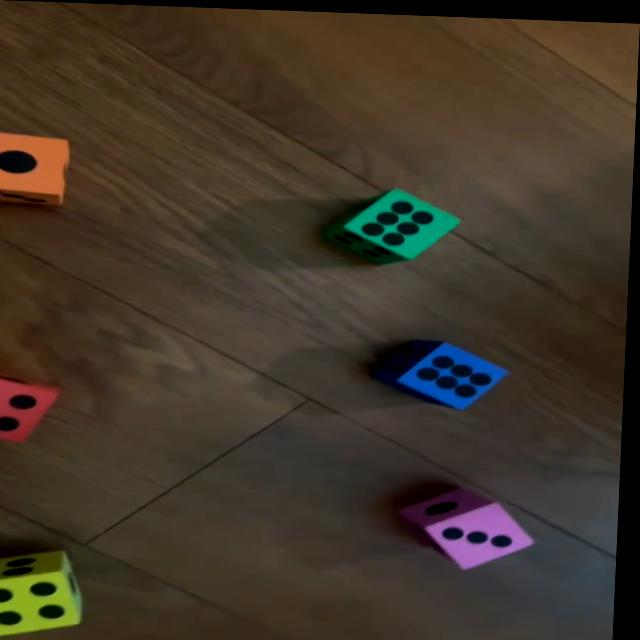cube: (325, 184, 461, 264), (374, 336, 514, 408), (0, 369, 65, 443)
